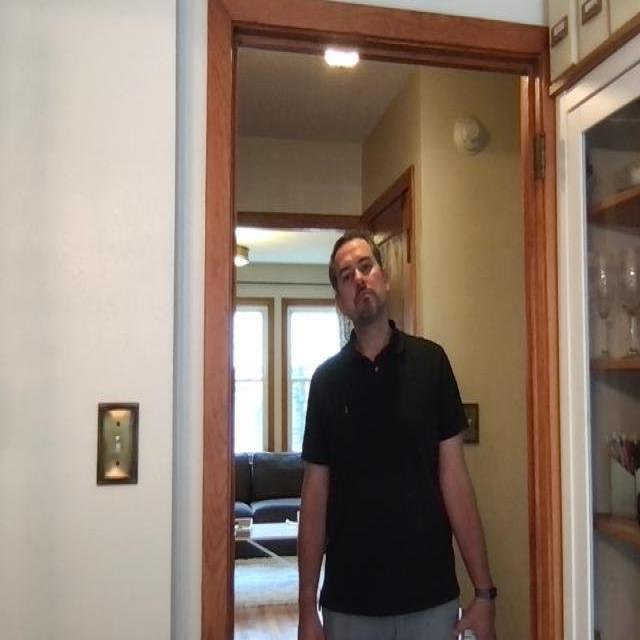face: (328, 231, 387, 332)
